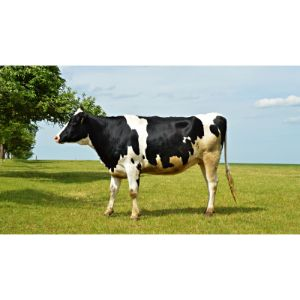cow: (52, 104, 241, 222)
